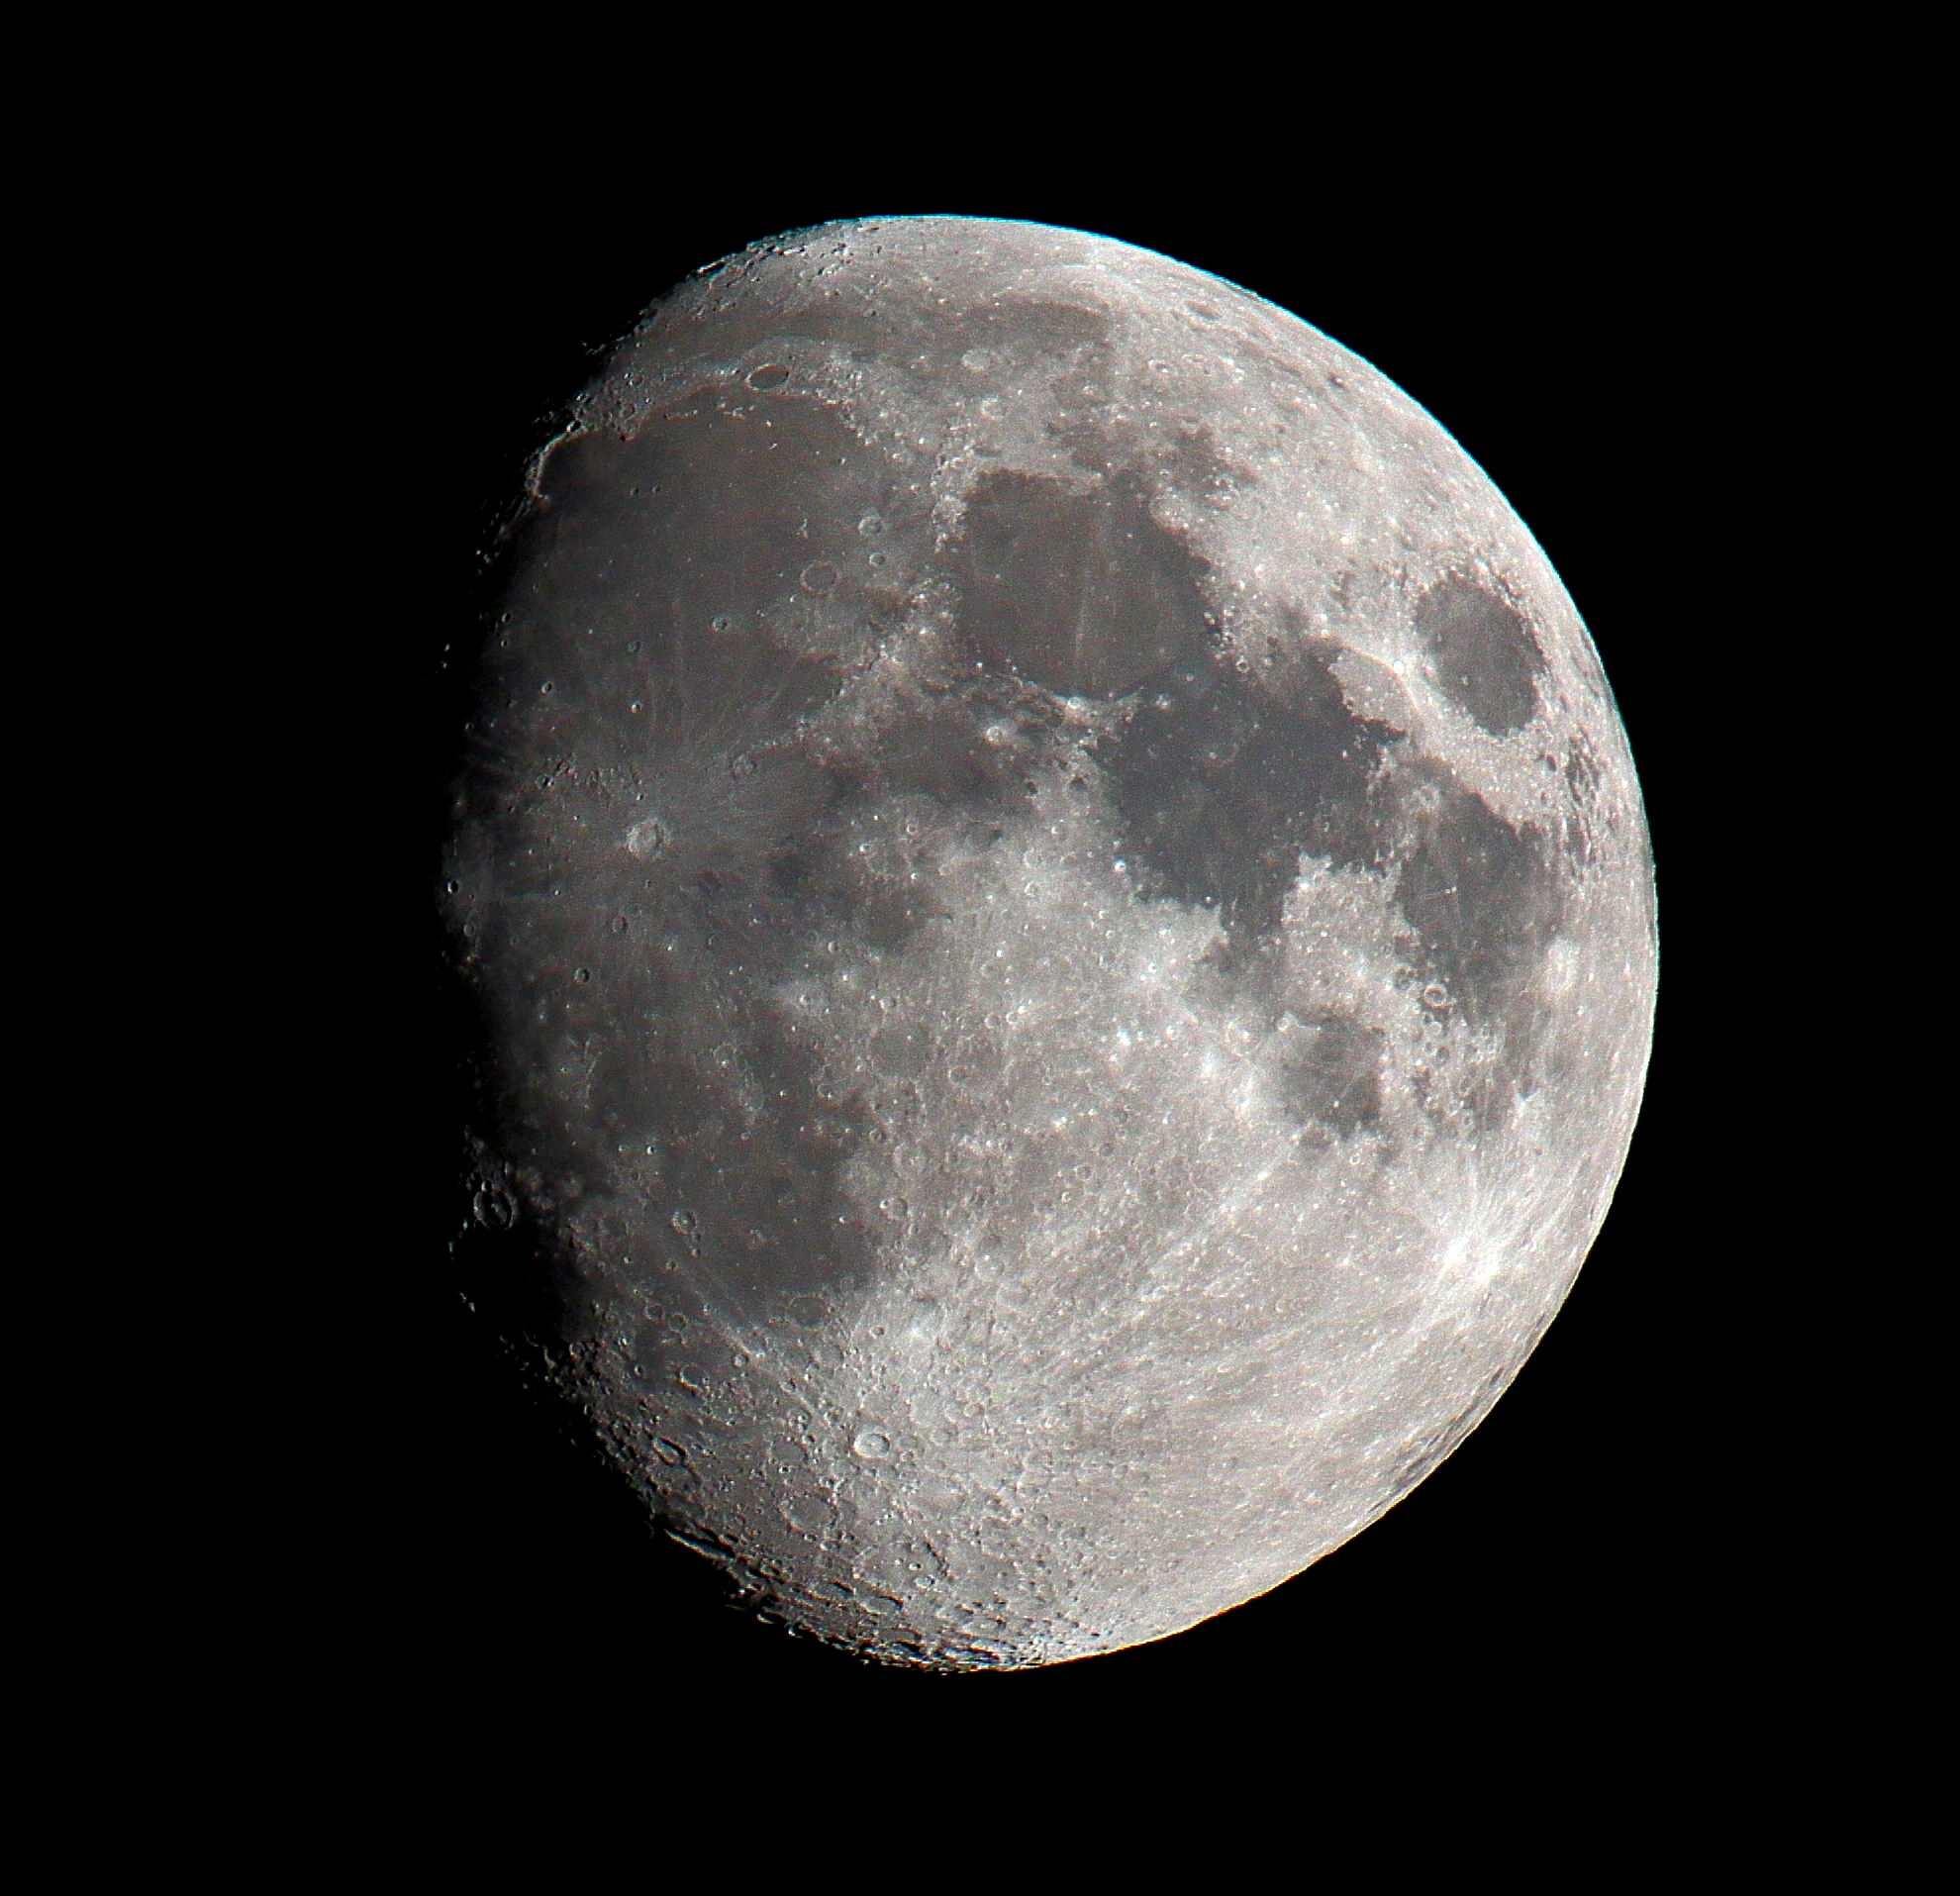crater: (1400, 560, 1559, 751), (1407, 1162, 1517, 1346), (597, 805, 703, 893), (714, 343, 812, 420), (826, 1401, 906, 1490), (455, 1178, 544, 1248), (789, 541, 856, 618), (1207, 1000, 1276, 1063), (712, 728, 772, 795), (656, 1196, 714, 1262), (642, 460, 698, 525), (968, 707, 1020, 762), (437, 860, 485, 919), (842, 508, 900, 553), (947, 341, 1017, 376), (864, 984, 910, 1033), (607, 459, 649, 511), (567, 951, 609, 1001), (700, 599, 740, 646), (856, 548, 905, 585), (969, 389, 1022, 422), (1144, 350, 1183, 394), (1195, 737, 1228, 772)
